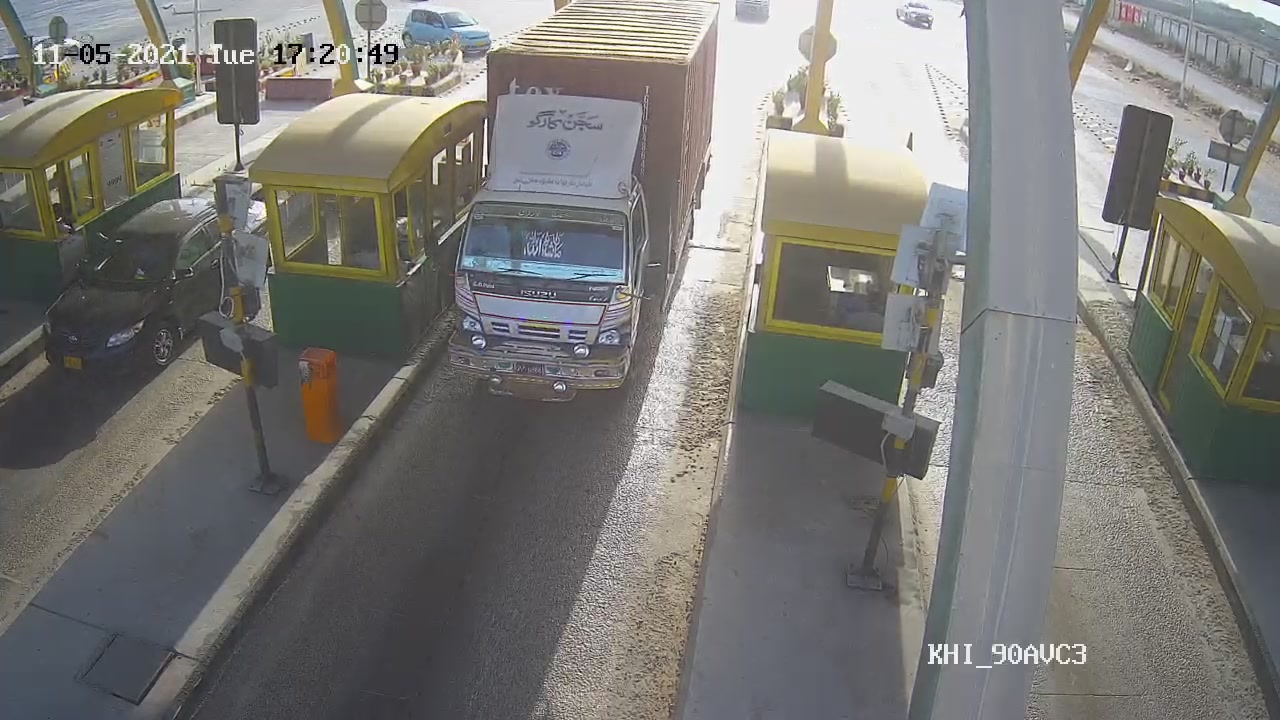F6: (429, 1, 730, 400)
